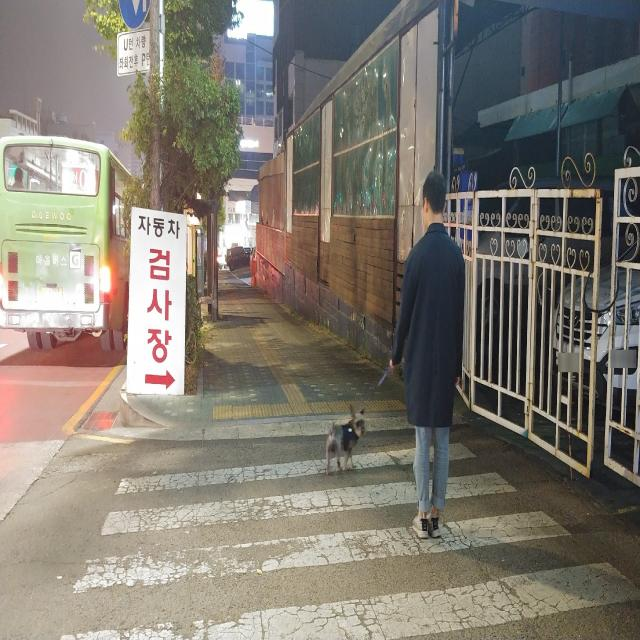횡단보도: (58, 440, 640, 640)
